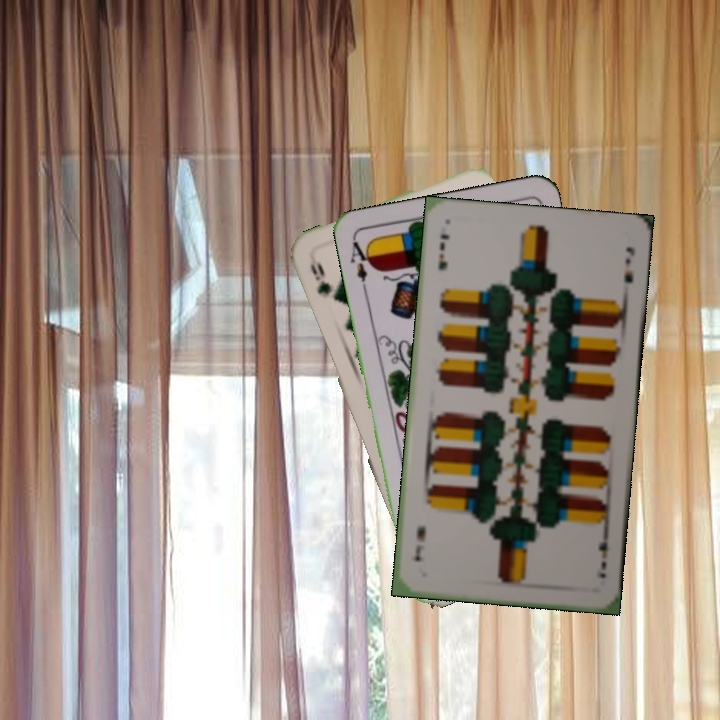E7: (593, 528, 612, 580), (434, 230, 453, 272)
EA: (346, 235, 376, 294)
G9: (305, 259, 332, 297)
